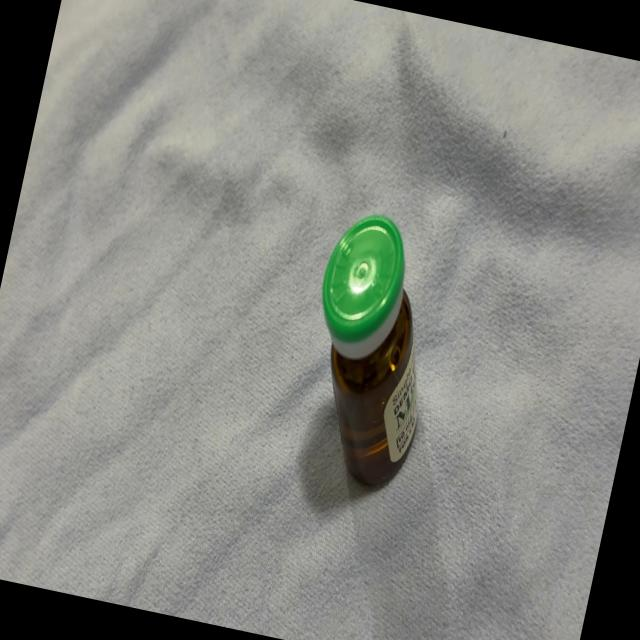midazolm: (286, 211, 454, 488)
